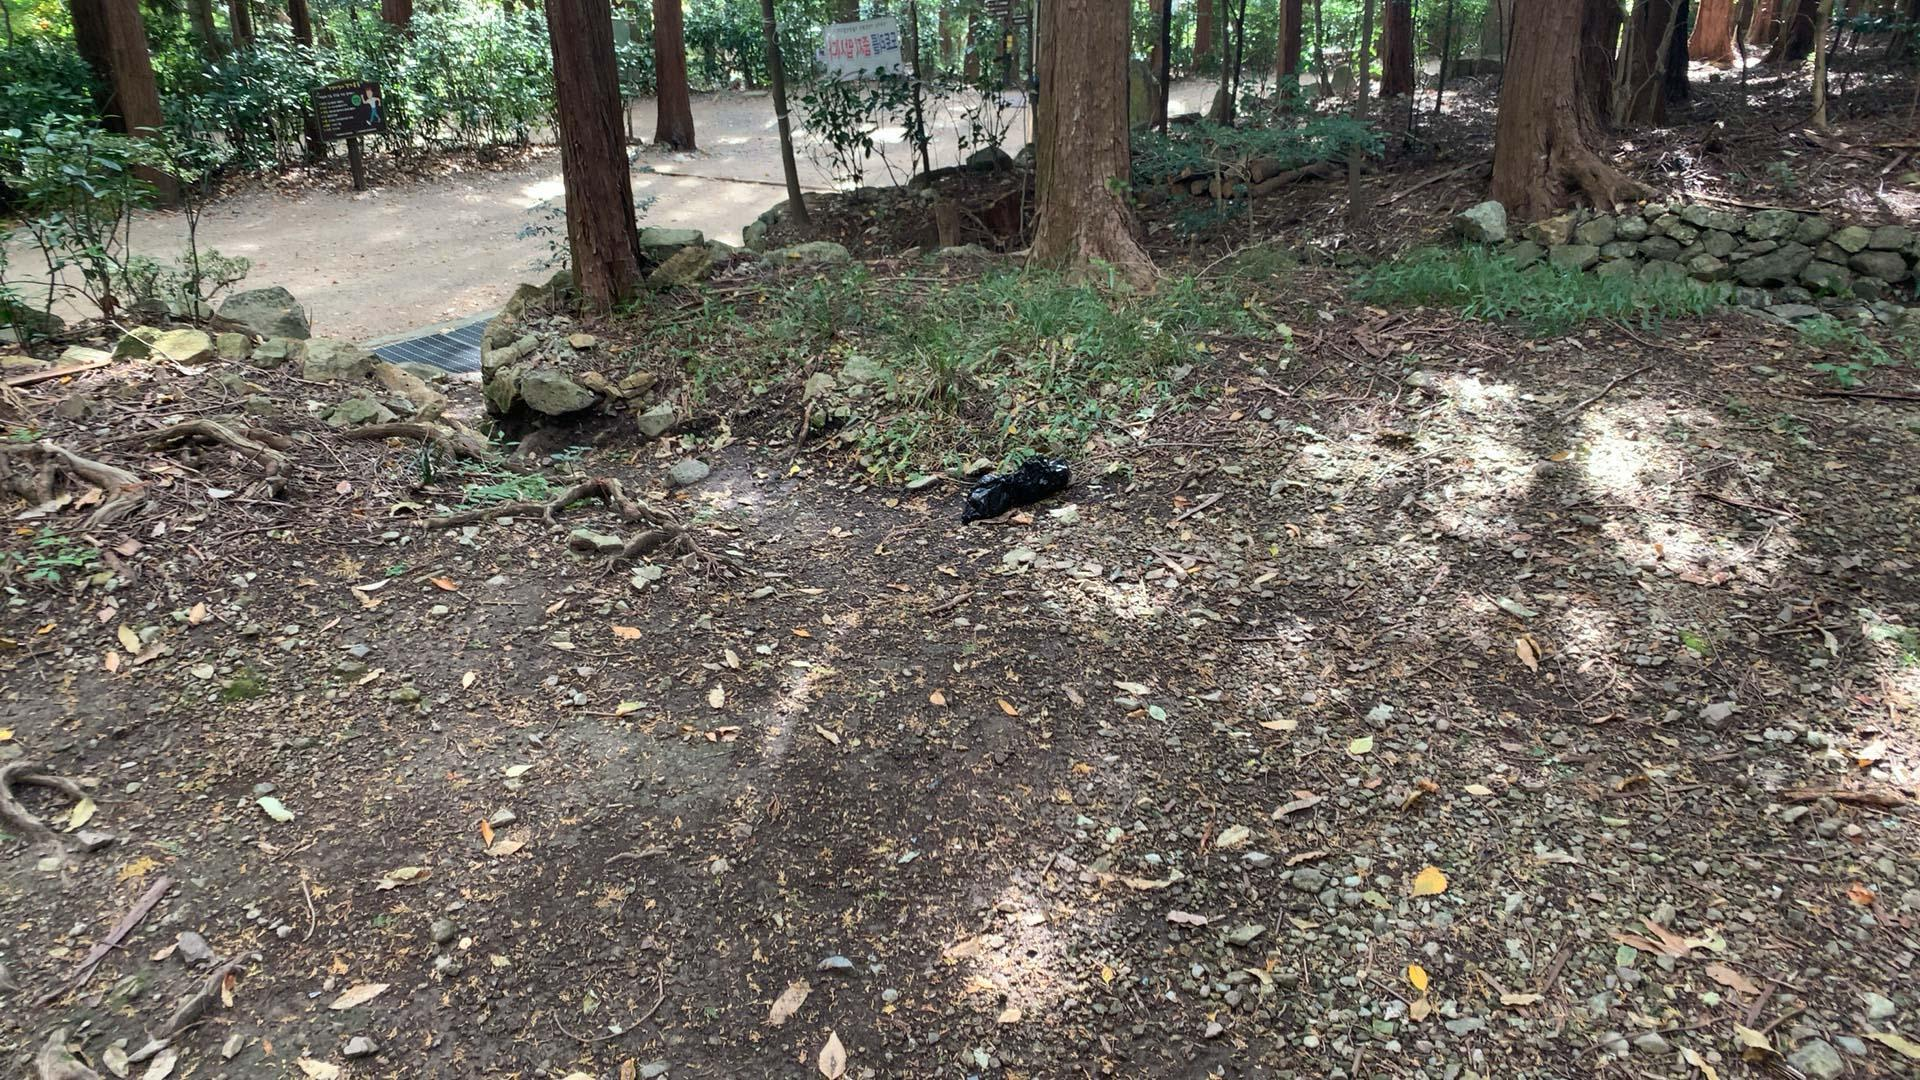black_bag: (957, 448, 1080, 527)
